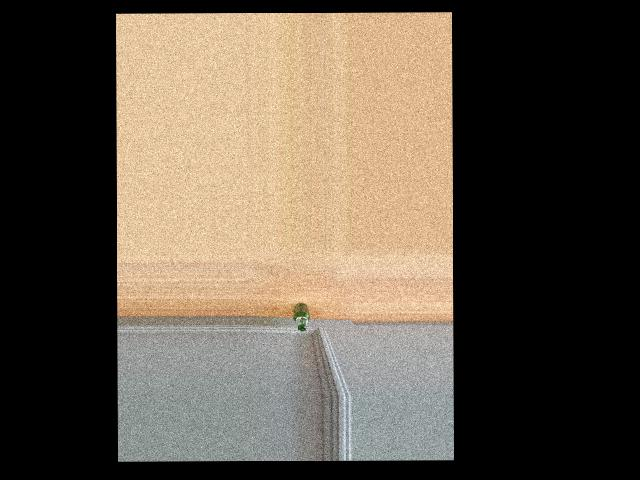beer: (293, 302, 310, 331)
